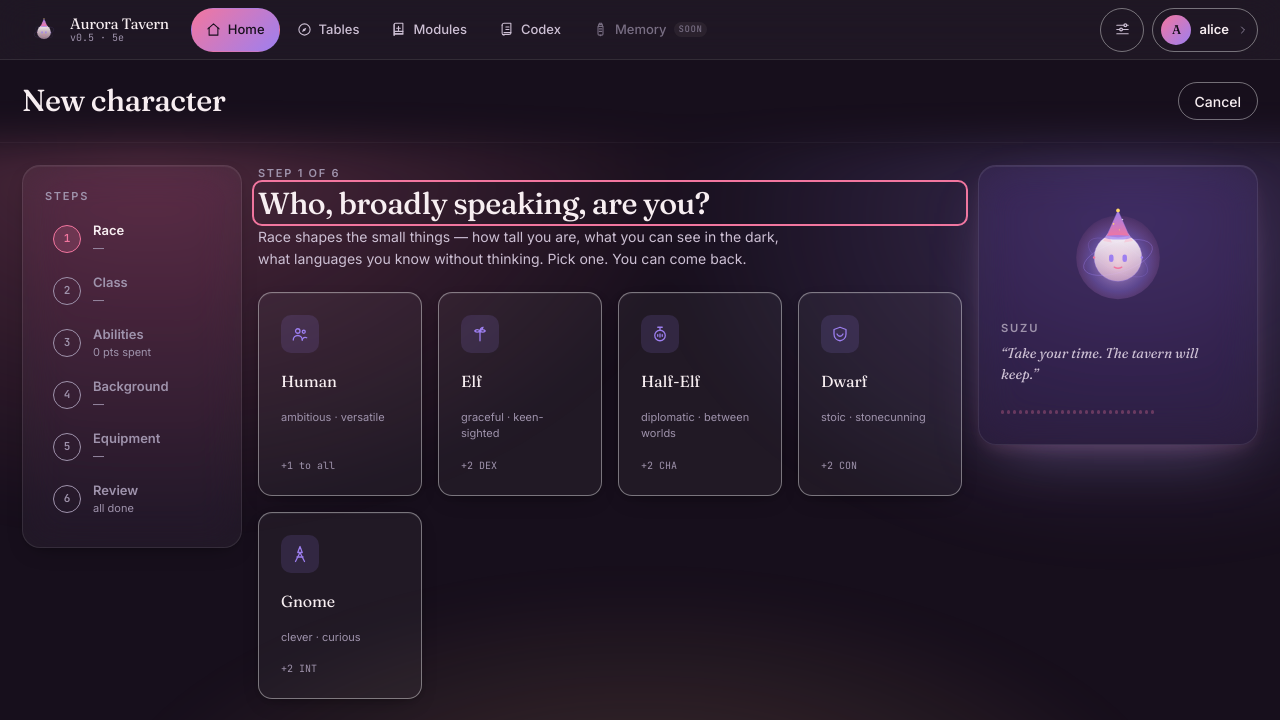
Scenario: Character creation wizard › TAV-CLASS-STAT-GUIDANCE › renders a Suggested-focus chip on class cards with declared guidance
The image size is (1280, 720).
Click the radio button labelled "Human ambitious · versatile +1 to all" at [340, 394], box [258,292,422,496]
(page scrolled)
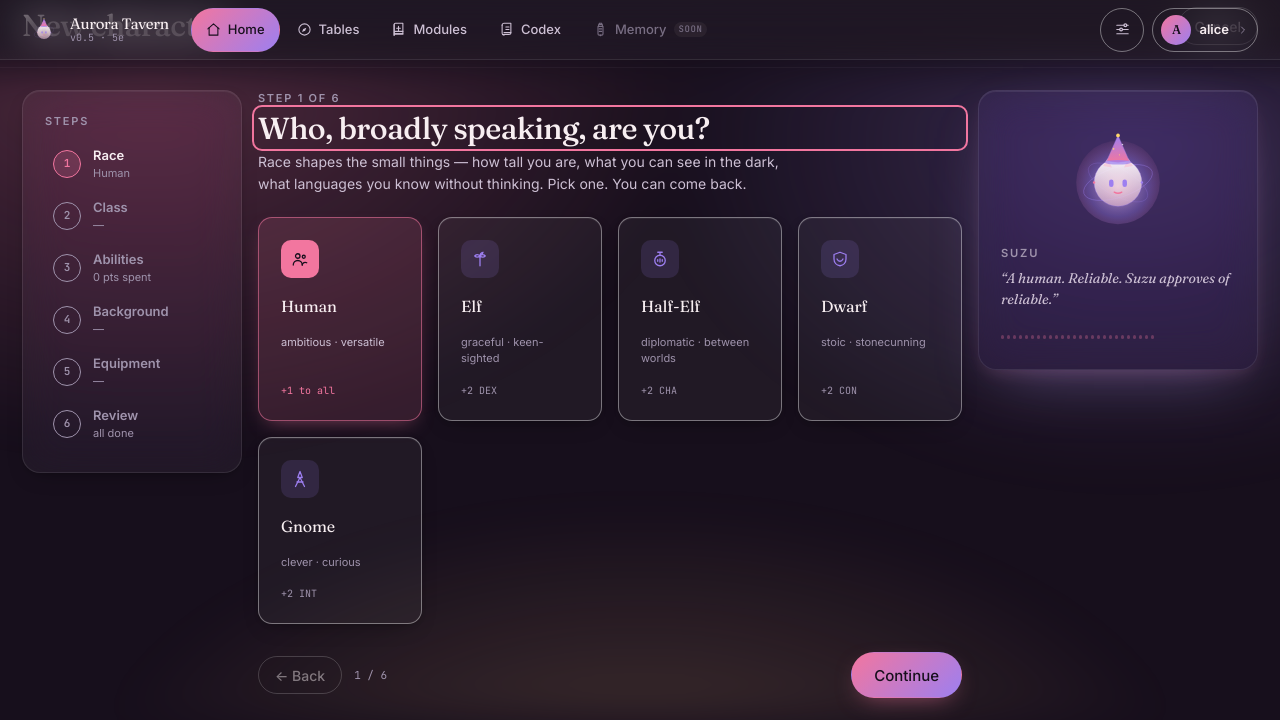
Click the button "Continue" at [907, 675], box [851,652,962,698]
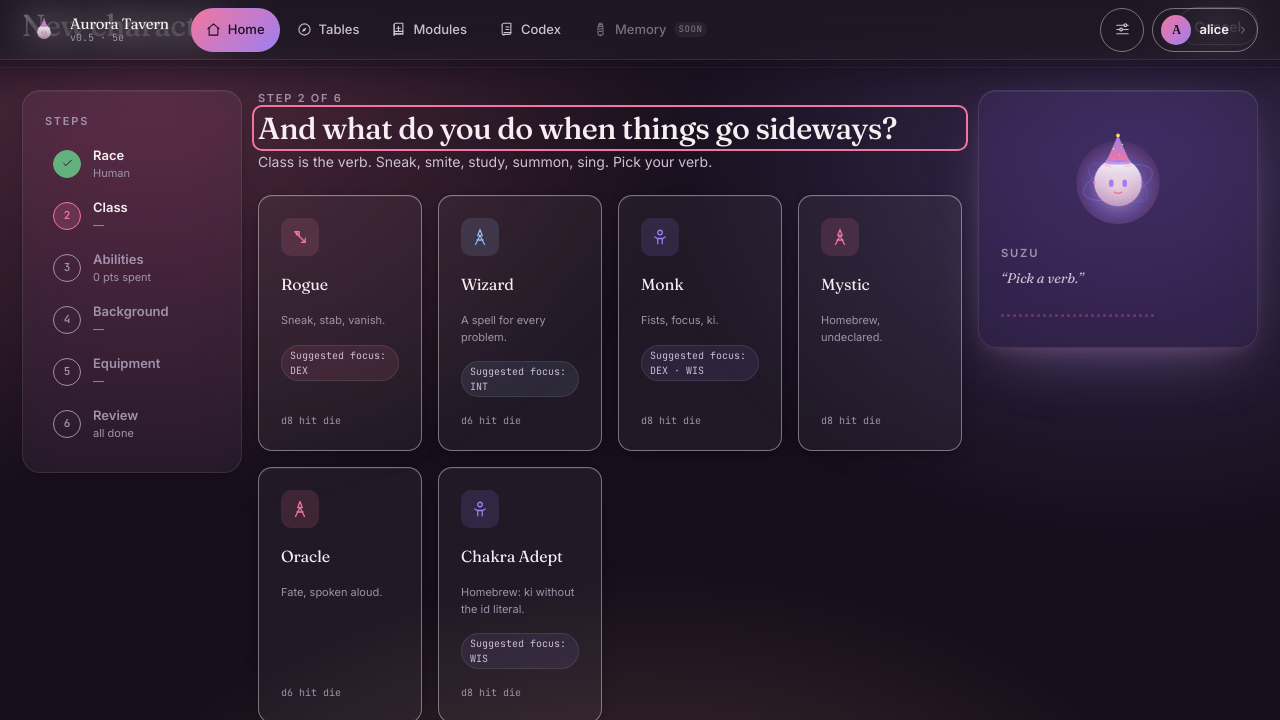
Expected: the text "Suggested focus: DEX" is shown, [281,345,399,381]
Expected: the text "Suggested focus: INT" is shown, [461,361,579,397]
Expected: the text "Suggested focus: DEX · WIS" is shown, [641,345,759,381]
